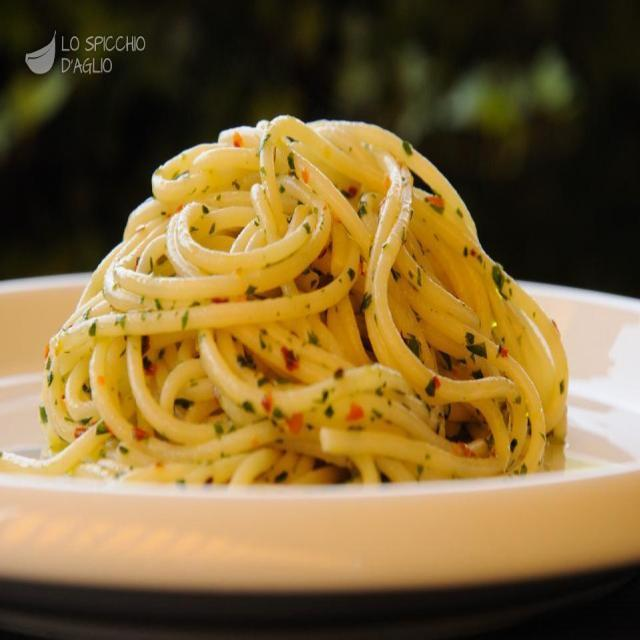Oil pasta: (58, 93, 584, 525)
